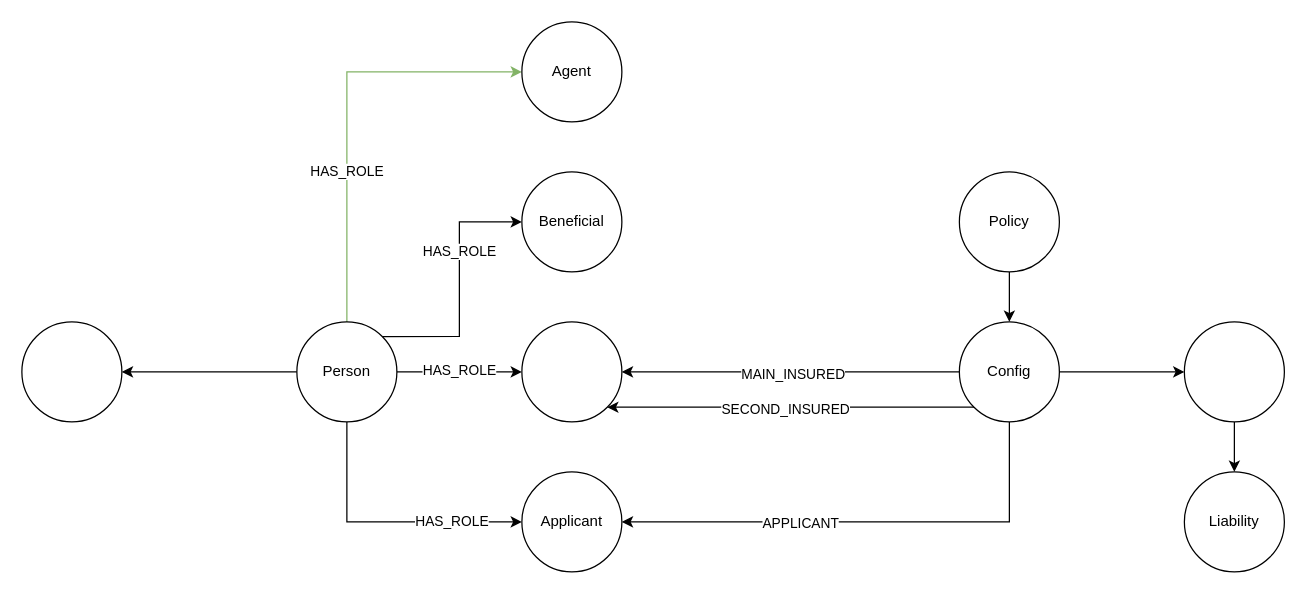
Image size: 1306x594. Some labels were removed from this diagram. The shapes that lost their labels are listed below. From the top down, each one's box as (x1, y1, x2, y2) in pixels, then its label:
(21, 321, 122, 422): PERSON_ID
(521, 321, 622, 422): Insured
(1183, 321, 1284, 422): Product
